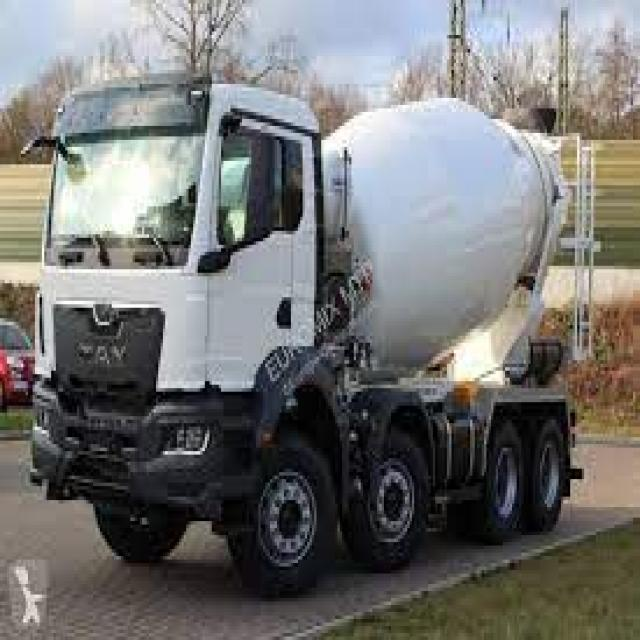Mixer Truck: (19, 70, 602, 598)
